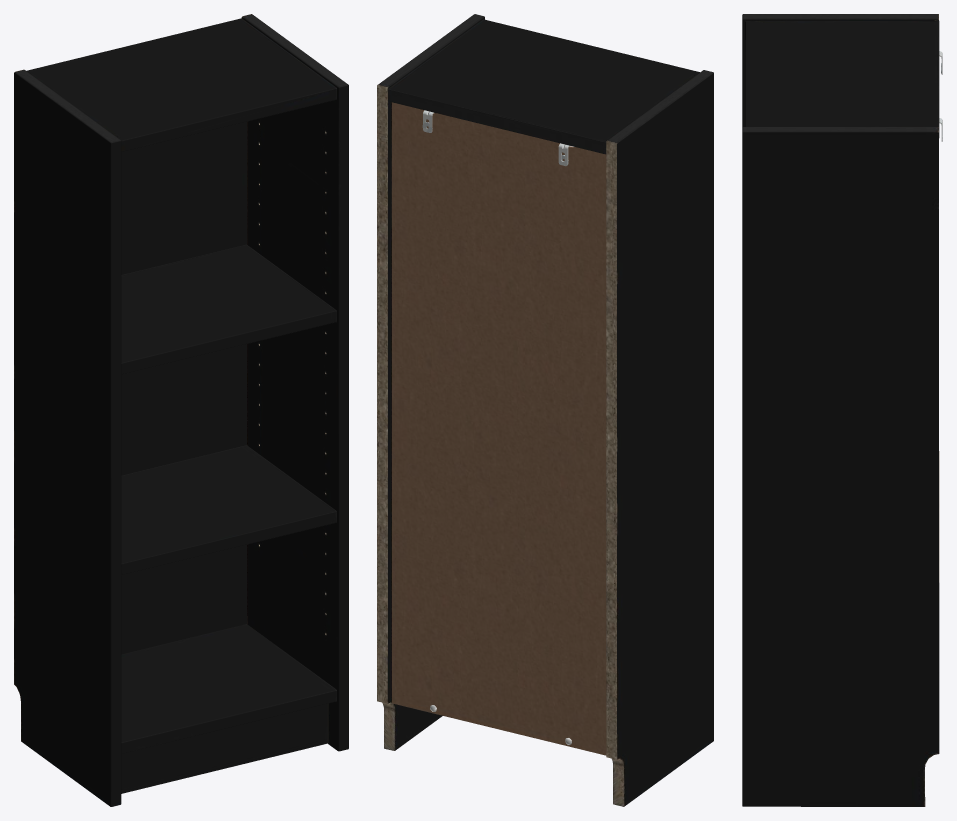
The model's file is billy_rega_30477331.glb.
3 renders of one model, left to right at view 1: azimuth 30°, elevation 25°; view 2: azimuth 150°, elevation 25°; view 3: azimuth 270°, elevation 25°, orthographic.
Parts seen in each view (by area): view 1: billy_rega_30477331; view 2: billy_rega_30477331; view 3: billy_rega_30477331.
Boxes of the visible parts, bbox=[...] form: billy_rega_30477331: bbox=[14, 14, 348, 806]; billy_rega_30477331: bbox=[377, 14, 713, 806]; billy_rega_30477331: bbox=[742, 14, 942, 806].
Size of the model in its own units: 0.398 by 1.06 by 0.285.
1 material, 1 textured.
